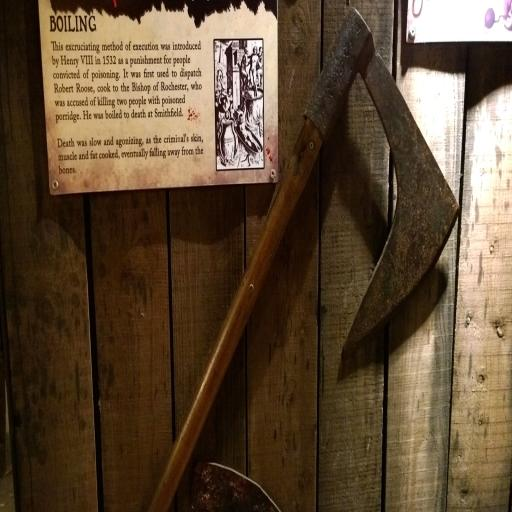Axe: (145, 5, 461, 512)
